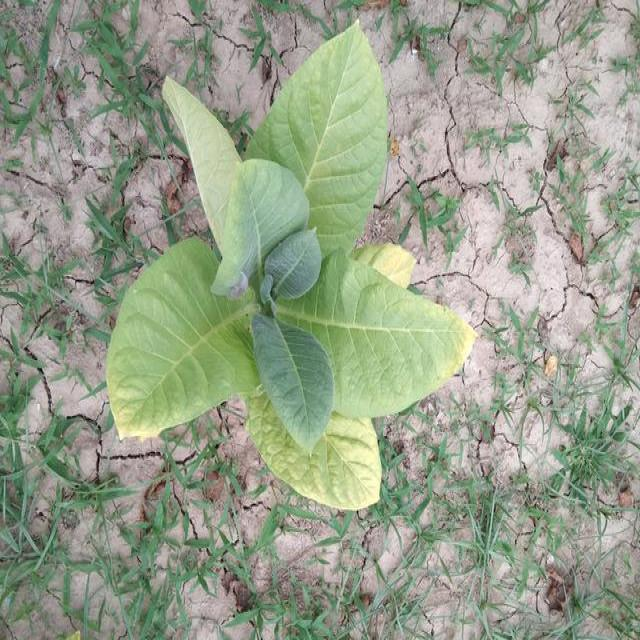crop: (105, 11, 476, 523)
